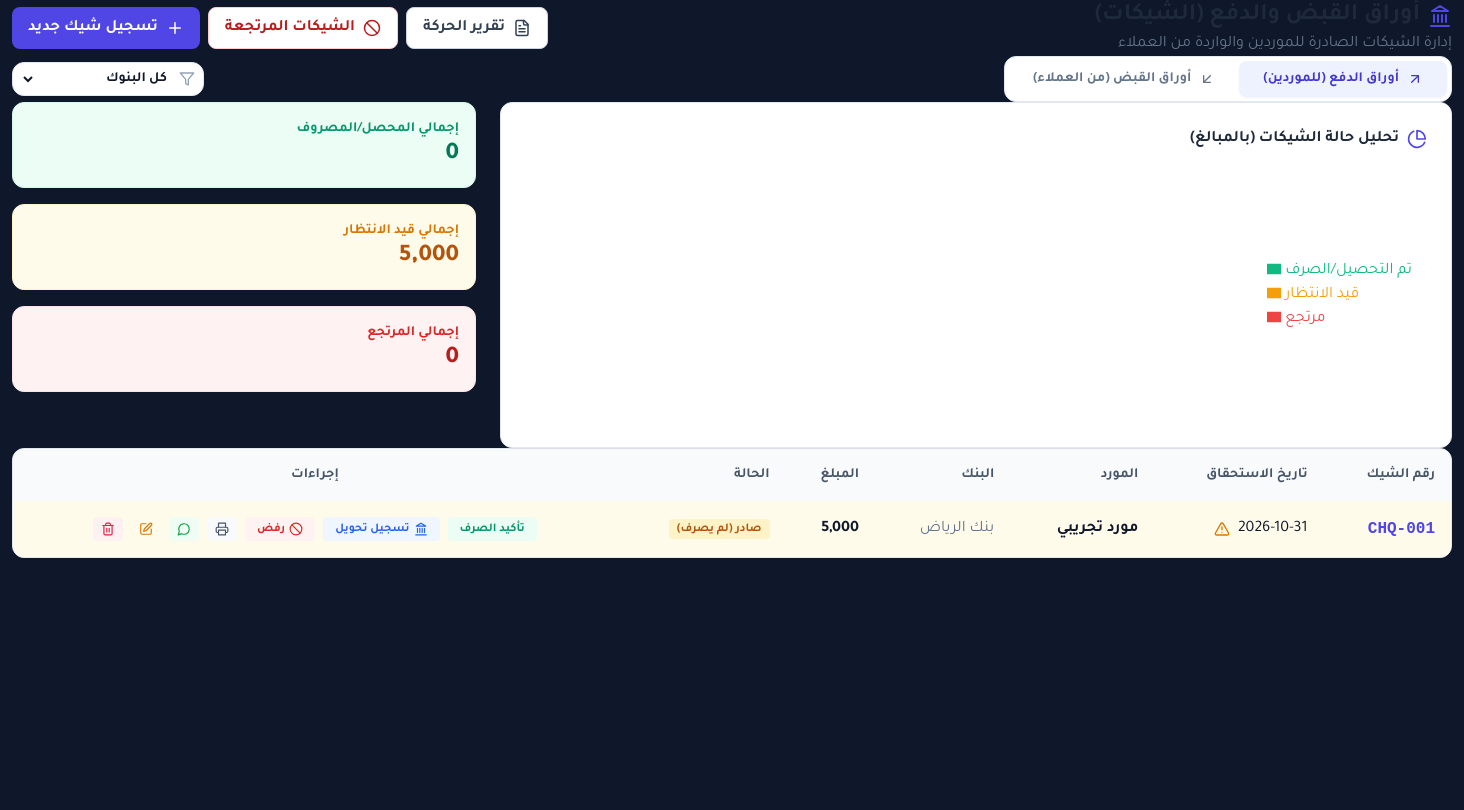
🏦 ChequesPage (Banking & Cheques Management) Tests › يتنقل بسلاسة بين أوراق الدفع وأوراق القبض ويعرض الشيكات الواردة من العملاء
Expected: the text "CHQ-001" is shown, 1324,501 -> 1451,557
# النقر على تبويب أوراق القبض
Click the button "أوراق القبض (من العملاء)" at (1124, 79), box 1009,61 -> 1239,97
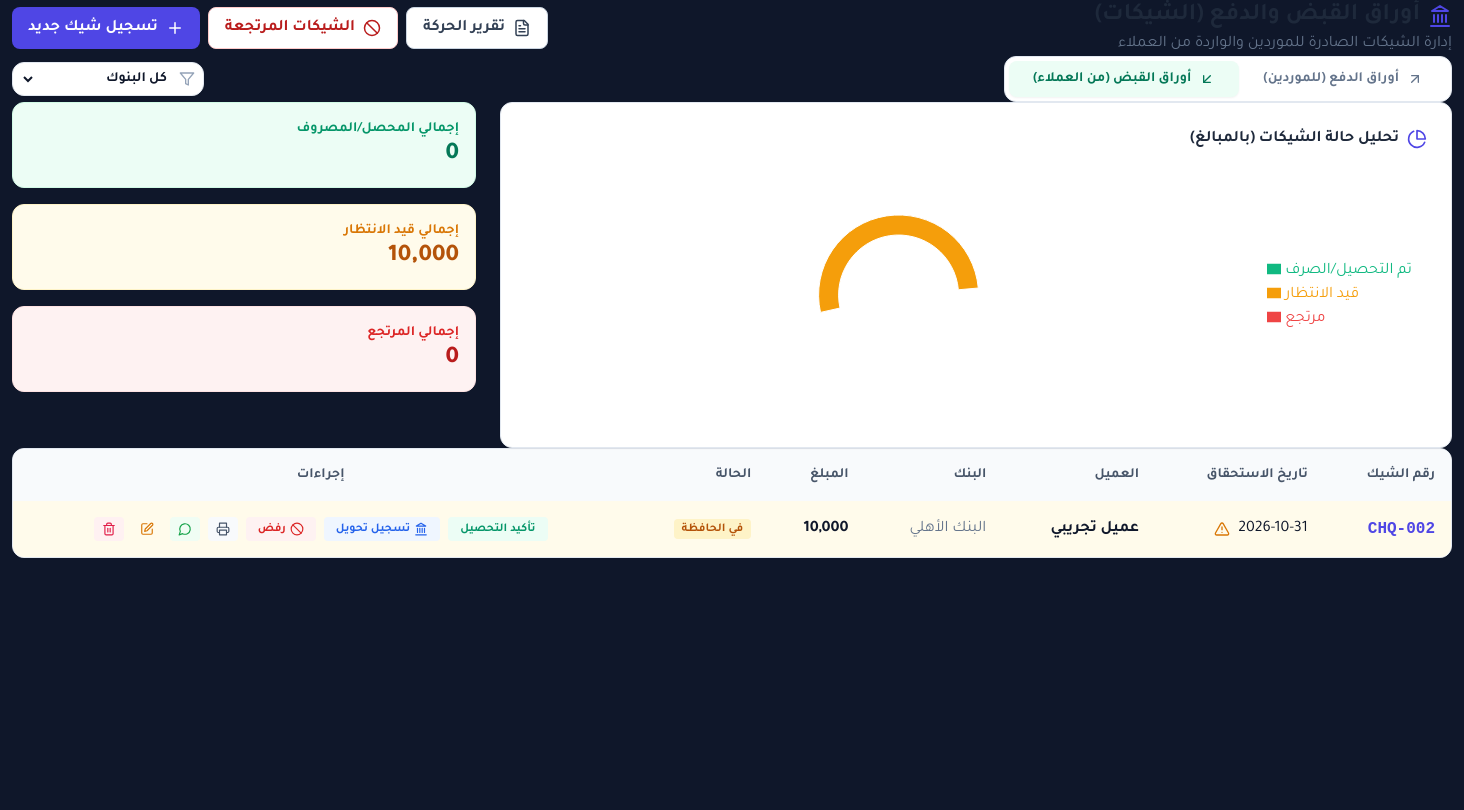
Result: the text "CHQ-002" is shown at 1324,501 -> 1451,557
Result: the text "عميل تجريبي" is shown at 1002,501 -> 1155,557
